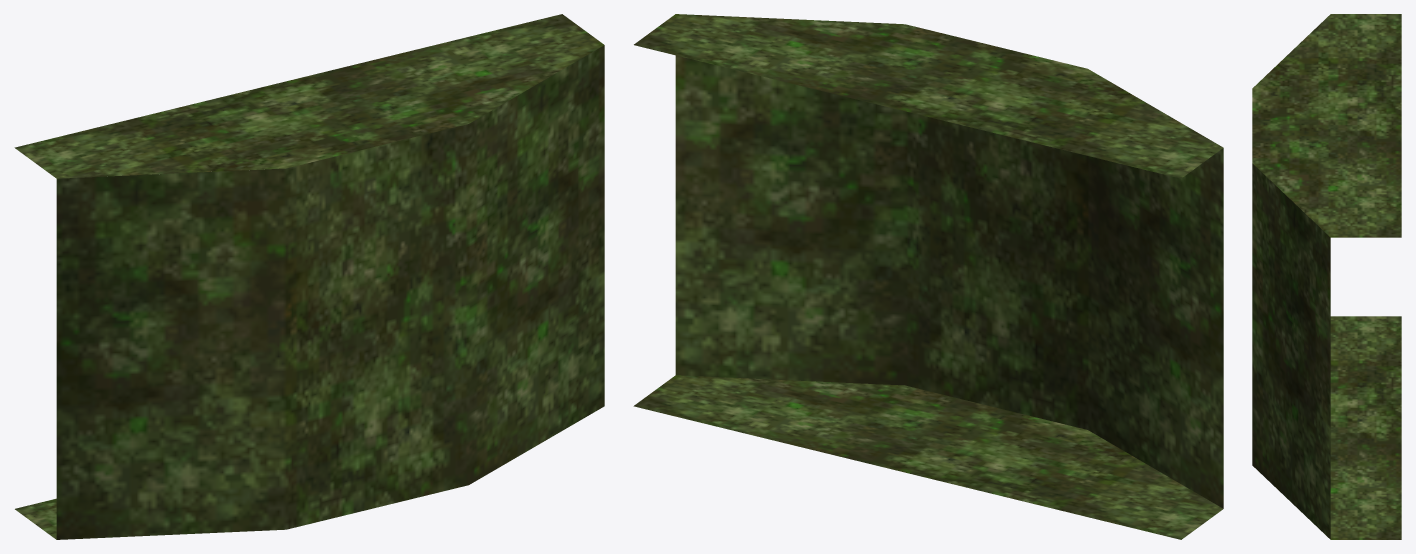
File: OVERHILL_A_01_LINE409.fbx
3 renders of one model, left to right at view 1: azimuth 30°, elevation 25°; view 2: azimuth 150°, elevation 25°; view 3: azimuth 270°, elevation 25°, orthographic. The views are drawn at different scales.
Parts seen in each view (by area): view 1: OVERHILL_A_01_LINE409; view 2: OVERHILL_A_01_LINE409; view 3: OVERHILL_A_01_LINE409.
Part boxes in pixels (x1=…): OVERHILL_A_01_LINE409: x1=14, y1=14, x2=604, y2=539; OVERHILL_A_01_LINE409: x1=633, y1=14, x2=1223, y2=539; OVERHILL_A_01_LINE409: x1=1252, y1=14, x2=1401, y2=539.
Bounding box in the file's own units: 37552 × 23653 × 10598.
1 material, 1 textured.
